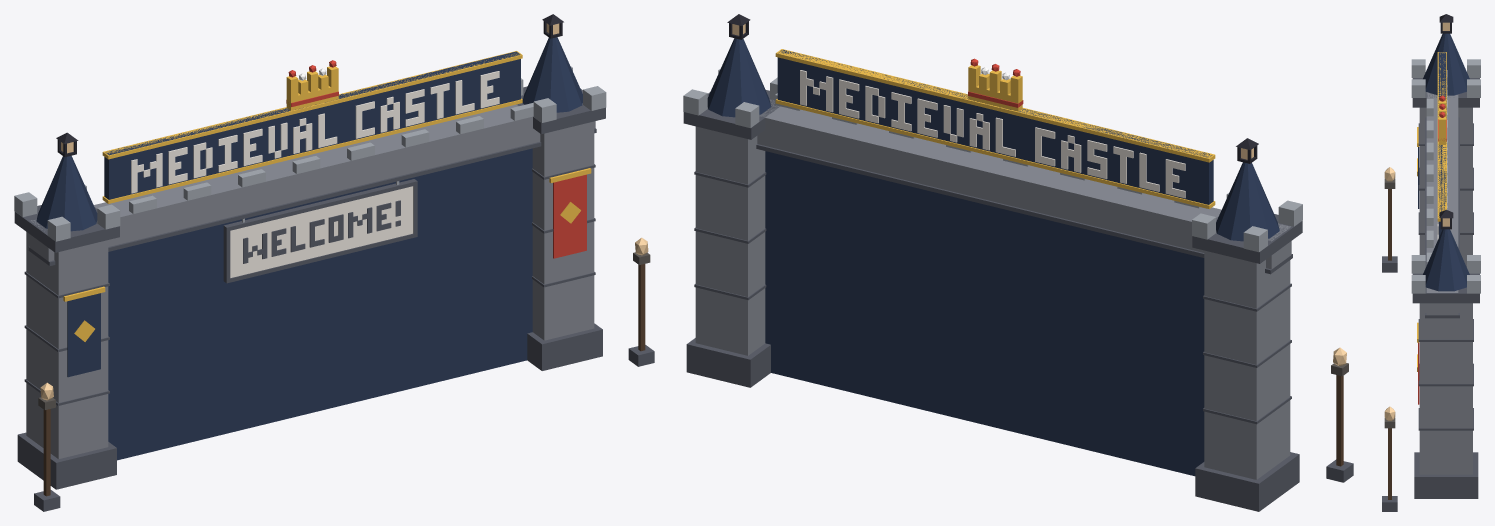
The model's file is CatCafe_Castle_Gate.glb.
3 views of the same model, side by side, from view 1: azimuth 30°, elevation 25°; view 2: azimuth 150°, elevation 25°; view 3: azimuth 270°, elevation 25° (orthographic). The views are drawn at different scales.
Parts seen in each view (by area): view 1: CatCafe_Castle_Gate, CatCafe_Castle_Gate_Bars, CatCafe_Castle_Gate_SignBoard; view 2: CatCafe_Castle_Gate, CatCafe_Castle_Gate_Bars; view 3: CatCafe_Castle_Gate, CatCafe_Castle_Gate_Lamp_Bulb.
Boxes of the visible parts, x1,y1,x2,y2 form: CatCafe_Castle_Gate: [14, 14, 654, 511]; CatCafe_Castle_Gate_Bars: [108, 148, 532, 460]; CatCafe_Castle_Gate_SignBoard: [230, 186, 413, 277]; CatCafe_Castle_Gate: [683, 14, 1353, 511]; CatCafe_Castle_Gate_Bars: [765, 151, 1204, 476]; CatCafe_Castle_Gate: [1382, 14, 1480, 511]; CatCafe_Castle_Gate_Lamp_Bulb: [1384, 22, 1449, 420].
Size of the model in its own units: 33.3 by 18 by 5.65.
1 material, 1 textured.
